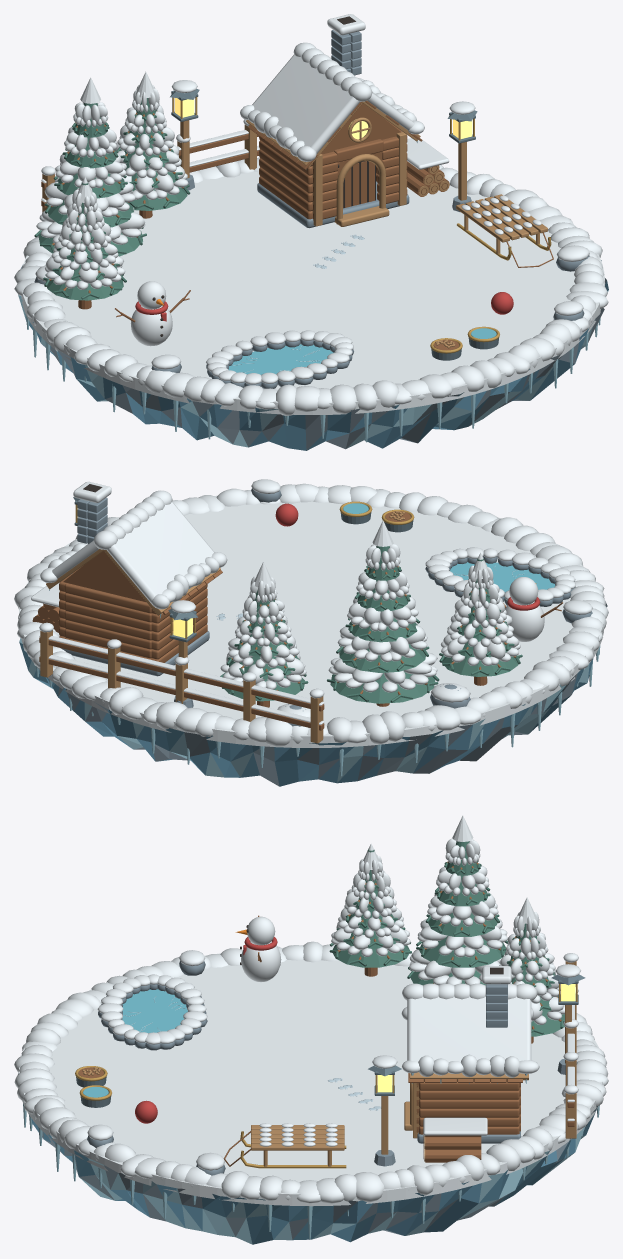
The model's file is snow.glb.
3 renders of one model, top to bottom at view 1: azimuth 30°, elevation 25°; view 2: azimuth 150°, elevation 25°; view 3: azimuth 270°, elevation 25°, orthographic.
Parts seen in each view (by area): view 1: SnowHaven_Powder_snow.001, Faceted_floating_glacier, SnowHaven_Lodge_cedar.001, SnowHaven_Cut_timber.001, SnowHaven_Fir_needles.001, SnowHaven_Winter_slate.001, SnowHaven_Frozen_pond.001, SnowHaven_Ice_facet_light.001, SnowHaven_Iron_fittings.001, SnowHaven_Lantern_brass.001, SnowHaven_Warm_windows.001, SnowHaven_Wool_and_rubber_red.001; view 2: SnowHaven_Powder_snow.001, Faceted_floating_glacier, SnowHaven_Lodge_cedar.001, SnowHaven_Fir_needles.001, SnowHaven_Winter_slate.001, SnowHaven_Cut_timber.001, SnowHaven_Frozen_pond.001, SnowHaven_Ice_facet_light.001, SnowHaven_Iron_fittings.001, SnowHaven_Wool_and_rubber_red.001, SnowHaven_Lantern_brass.001; view 3: SnowHaven_Powder_snow.001, Faceted_floating_glacier, SnowHaven_Lodge_cedar.001, SnowHaven_Fir_needles.001, SnowHaven_Cut_timber.001, SnowHaven_Winter_slate.001, SnowHaven_Frozen_pond.001, SnowHaven_Ice_facet_light.001, SnowHaven_Lantern_brass.001, SnowHaven_Iron_fittings.001, SnowHaven_Wool_and_rubber_red.001.
Boxes of the visible parts, <box> form: SnowHaven_Powder_snow.001: <box>14,14,608,415</box>; Faceted_floating_glacier: <box>18,260,608,450</box>; SnowHaven_Lodge_cedar.001: <box>41,100,553,350</box>; SnowHaven_Cut_timber.001: <box>42,101,547,348</box>; SnowHaven_Fir_needles.001: <box>34,98,190,300</box>; SnowHaven_Winter_slate.001: <box>34,30,589,388</box>; SnowHaven_Frozen_pond.001: <box>228,328,496,374</box>; SnowHaven_Ice_facet_light.001: <box>26,120,600,442</box>; SnowHaven_Iron_fittings.001: <box>170,88,498,360</box>; SnowHaven_Lantern_brass.001: <box>172,97,551,353</box>; SnowHaven_Warm_windows.001: <box>175,98,472,139</box>; SnowHaven_Wool_and_rubber_red.001: <box>135,292,513,321</box>; SnowHaven_Powder_snow.001: <box>14,479,608,747</box>; Faceted_floating_glacier: <box>19,598,607,786</box>; SnowHaven_Lodge_cedar.001: <box>32,511,562,730</box>; SnowHaven_Fir_needles.001: <box>220,546,522,703</box>; SnowHaven_Winter_slate.001: <box>60,488,592,727</box>; SnowHaven_Cut_timber.001: <box>40,511,404,743</box>; SnowHaven_Frozen_pond.001: <box>343,503,555,598</box>; SnowHaven_Ice_facet_light.001: <box>36,588,600,776</box>; SnowHaven_Iron_fittings.001: <box>73,497,413,642</box>; SnowHaven_Wool_and_rubber_red.001: <box>275,503,540,610</box>; SnowHaven_Lantern_brass.001: <box>75,501,414,639</box>; SnowHaven_Powder_snow.001: <box>14,815,608,1206</box>; Faceted_floating_glacier: <box>18,1067,606,1244</box>; SnowHaven_Lodge_cedar.001: <box>78,861,574,1166</box>; SnowHaven_Fir_needles.001: <box>329,841,564,1036</box>; SnowHaven_Cut_timber.001: <box>82,961,576,1166</box>; SnowHaven_Winter_slate.001: <box>87,961,577,1175</box>; SnowHaven_Frozen_pond.001: <box>83,989,187,1097</box>; SnowHaven_Ice_facet_light.001: <box>23,1073,599,1239</box>; SnowHaven_Lantern_brass.001: <box>75,984,577,1168</box>; SnowHaven_Iron_fittings.001: <box>76,974,585,1107</box>; SnowHaven_Wool_and_rubber_red.001: <box>135,937,277,1123</box>.
Size of the model in its own units: 6.51 by 3.41 by 6.49.
